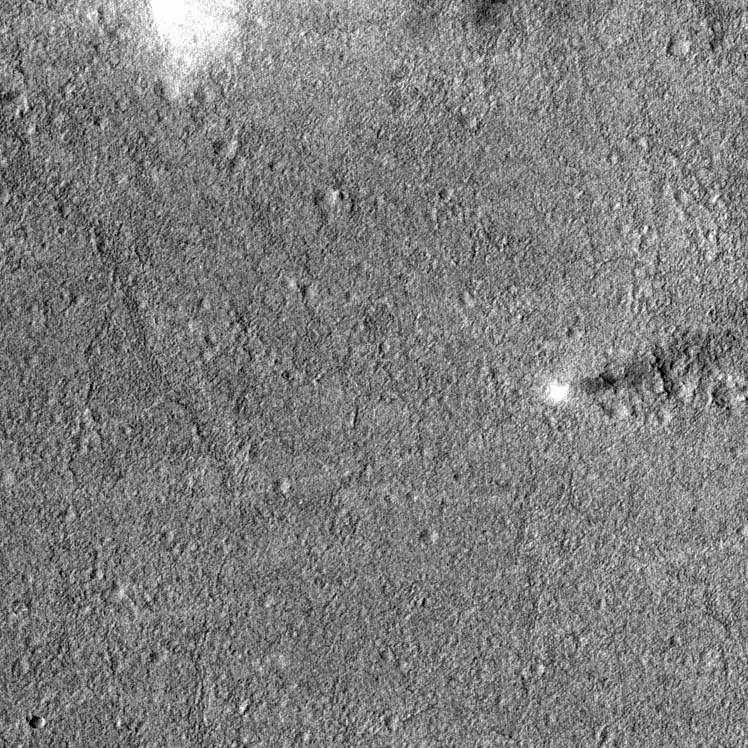dust_devil: (543, 323, 717, 408)
